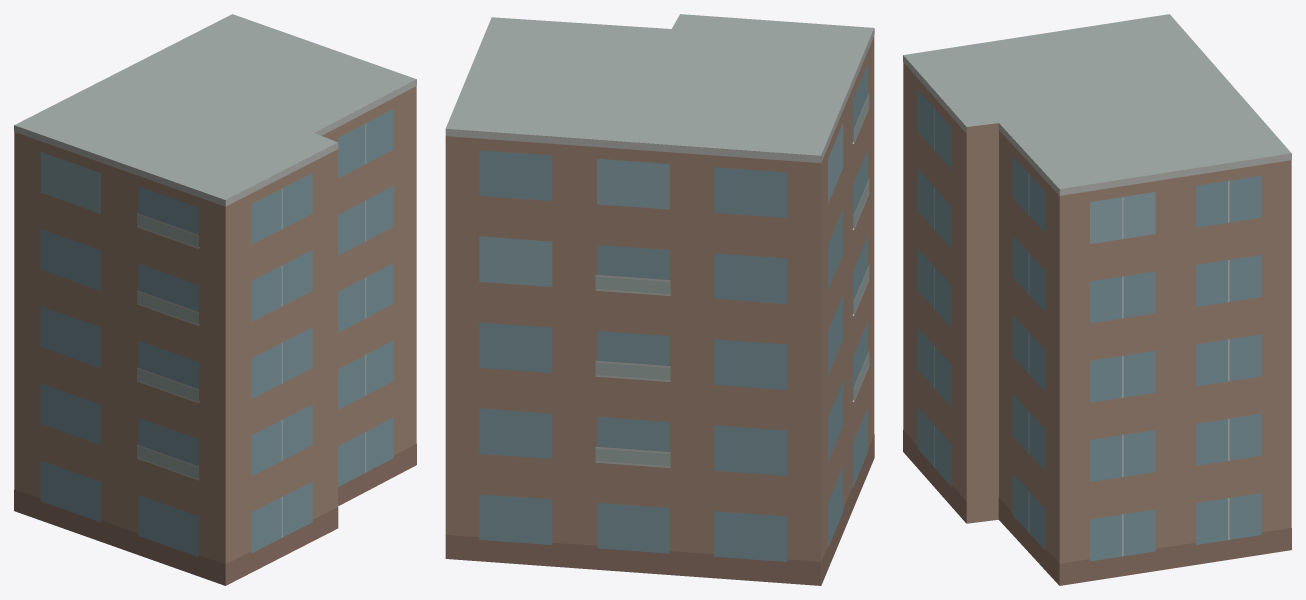
File: survey-upis-32854460.glb
3 renders of one model, left to right at view 1: azimuth 30°, elevation 25°; view 2: azimuth 150°, elevation 25°; view 3: azimuth 270°, elevation 25°, orthographic. The views are drawn at different scales.
Visible parts, largest first — view 1: survey-upis-32854460.tmp; view 2: survey-upis-32854460.tmp; view 3: survey-upis-32854460.tmp.
Part boxes in pixels (x1,y1,x2,y2): survey-upis-32854460.tmp: (14,14,416,585); survey-upis-32854460.tmp: (445,14,874,585); survey-upis-32854460.tmp: (903,14,1291,585).
Size of the model in its own units: 13.55 by 14.3 by 12.71.
